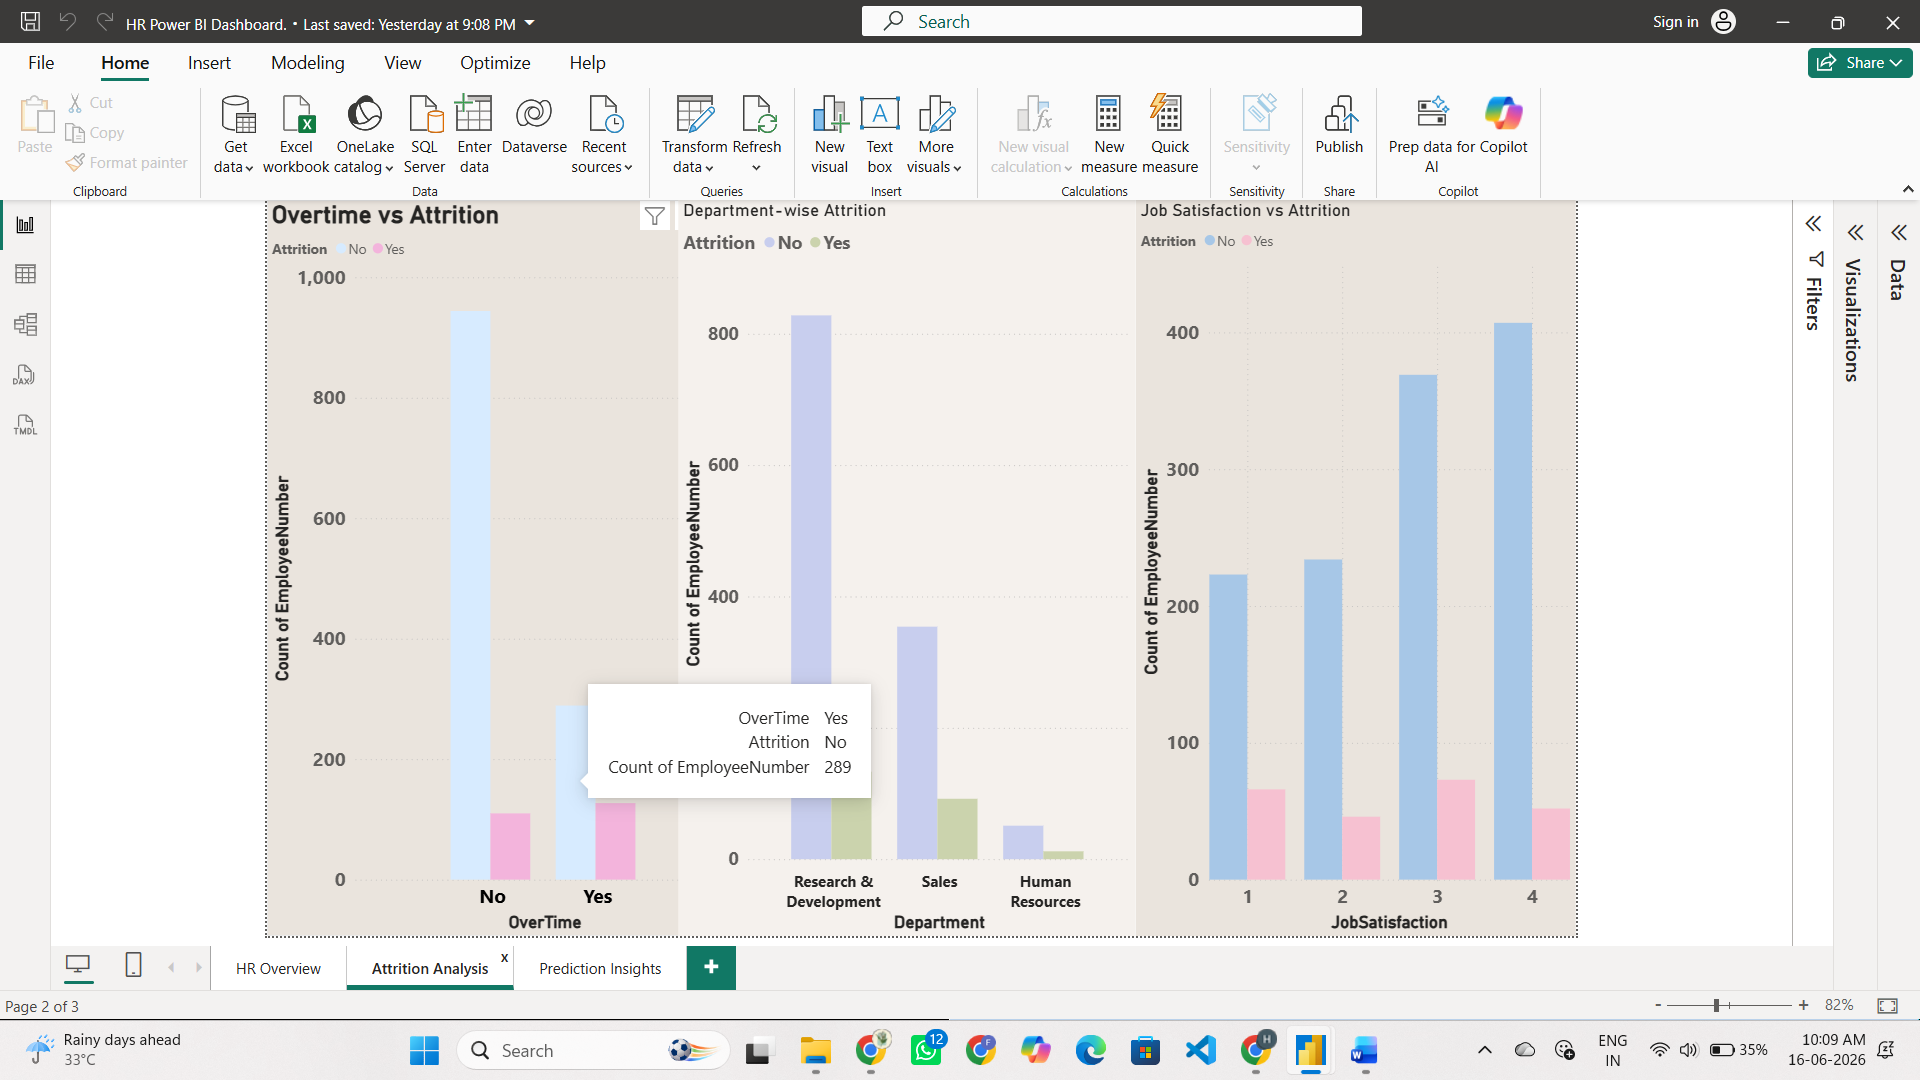

Layout of this report page (visuals, bound fields, positions):
{"tool":"powerbi","page":{"name":"Attrition Analysis","canvas":[1280,720],"ordinal":1},"visuals":[{"type":"clusteredColumnChart","title":"Overtime vs Attrition","fields":{"Category":["WA_Fn-UseC_-HR-Employee-Attrition.OverTime"],"Y":["CountNonNull(WA_Fn-UseC_-HR-Employee-Attrition.EmployeeNumber)"],"Series":["WA_Fn-UseC_-HR-Employee-Attrition.Attrition"]},"box":[0,0,462.5,720],"z":0},{"type":"clusteredColumnChart","title":"Job Satisfaction vs Attrition","fields":{"Category":["WA_Fn-UseC_-HR-Employee-Attrition.JobSatisfaction"],"Y":["CountNonNull(WA_Fn-UseC_-HR-Employee-Attrition.EmployeeNumber)"],"Series":["WA_Fn-UseC_-HR-Employee-Attrition.Attrition"]},"box":[850,0,430,720],"z":1000},{"type":"clusteredColumnChart","title":"Department-wise Attrition","fields":{"Category":["WA_Fn-UseC_-HR-Employee-Attrition.Department"],"Y":["CountNonNull(WA_Fn-UseC_-HR-Employee-Attrition.EmployeeNumber)"],"Series":["WA_Fn-UseC_-HR-Employee-Attrition.Attrition"]},"box":[402.5,0,447.5,720],"z":2000}]}

Visuals, with their boxes on the page's 1280x720 design canvas (x1, y1, x2, y2). These are canvas units, not pixel positions in the 1920x1080 screenshot, which may show the page scaled, cropped or inside an application window:
"Overtime vs Attrition" clusteredColumnChart: [0, 0, 462, 720]
"Job Satisfaction vs Attrition" clusteredColumnChart: [850, 0, 1280, 720]
"Department-wise Attrition" clusteredColumnChart: [402, 0, 850, 720]
